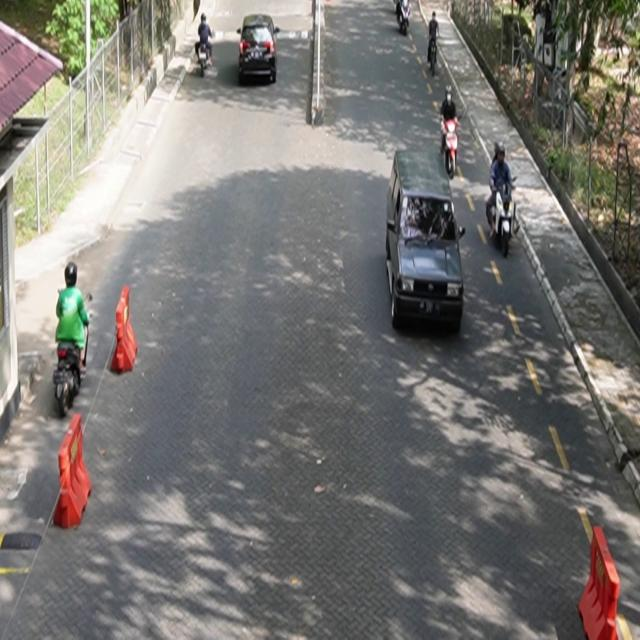car: (387, 149, 467, 334), (237, 14, 280, 85)
